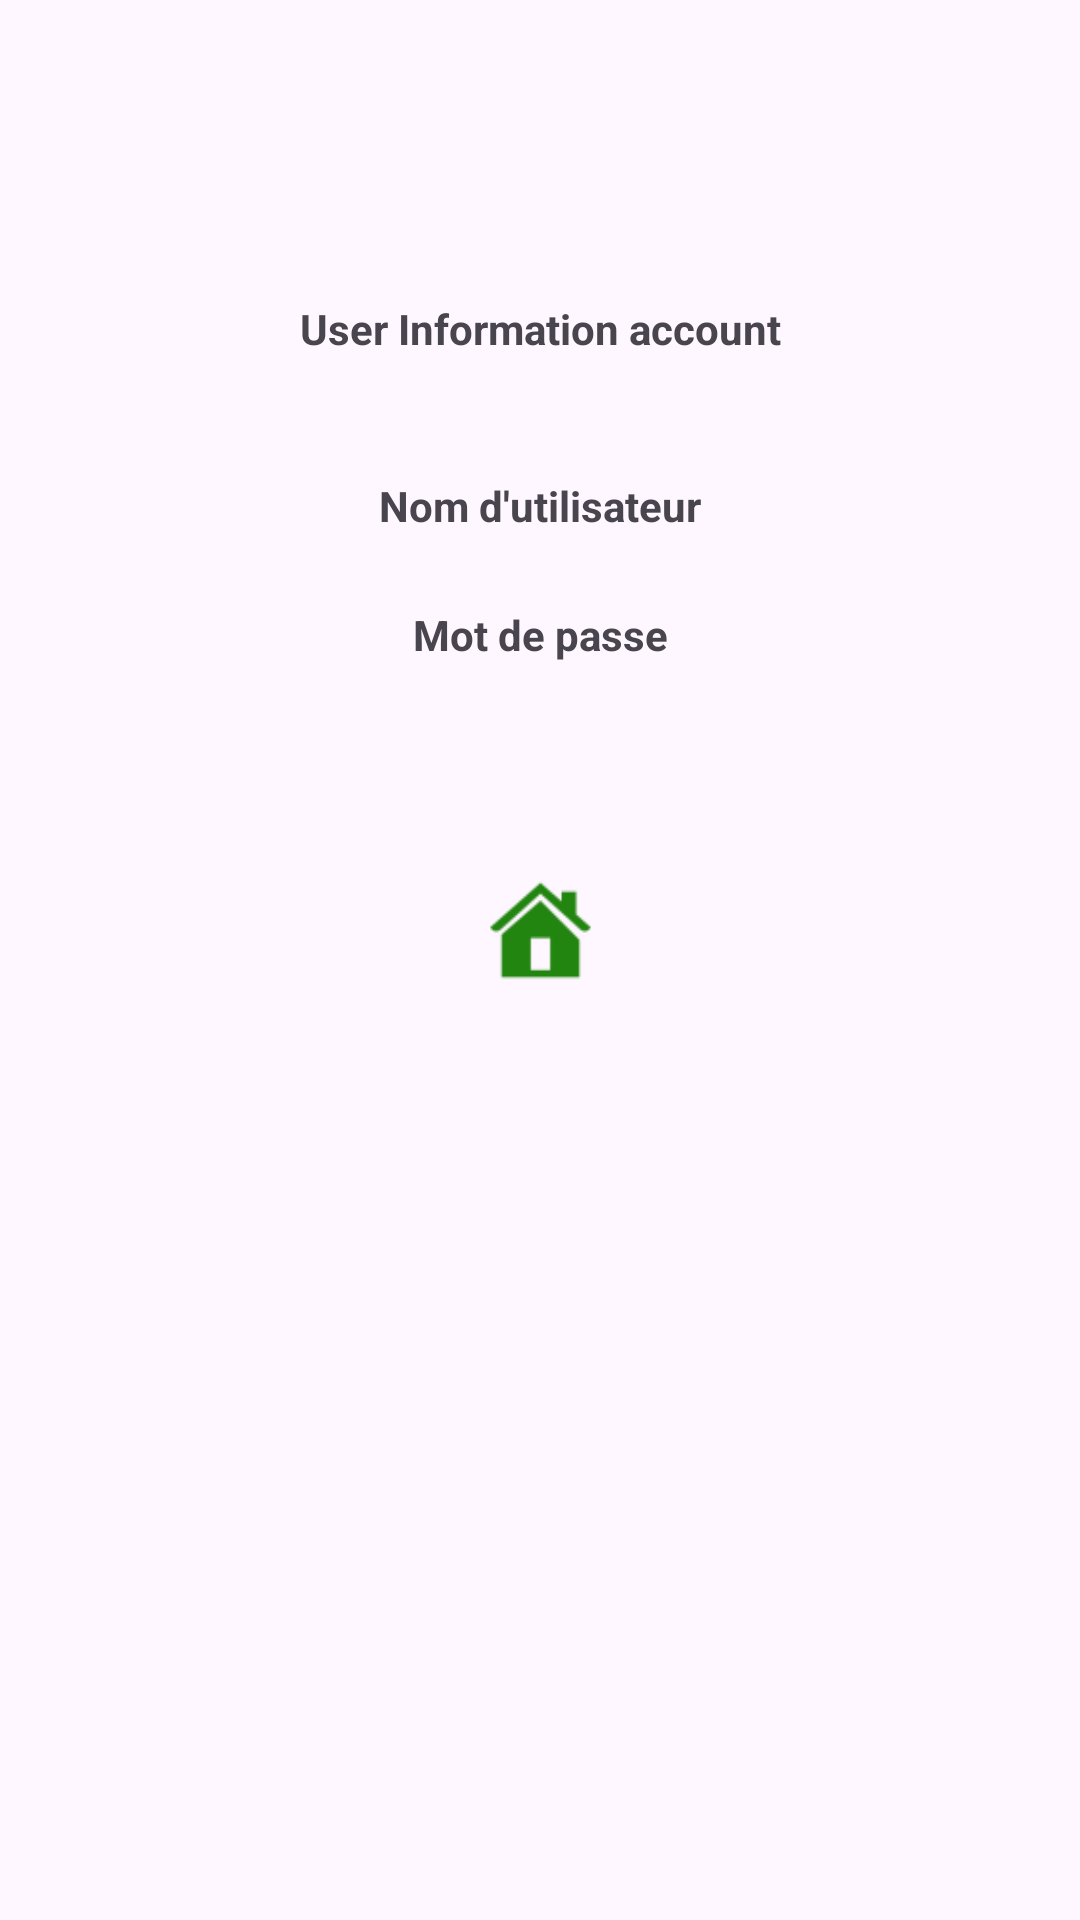

Named icons in this screenshot (1080px×1920px) and their centers, (x,y):
home: (540,930)
